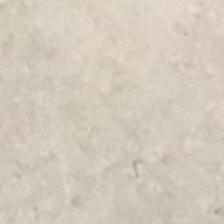Non_Crack: (13, 8, 224, 216)
